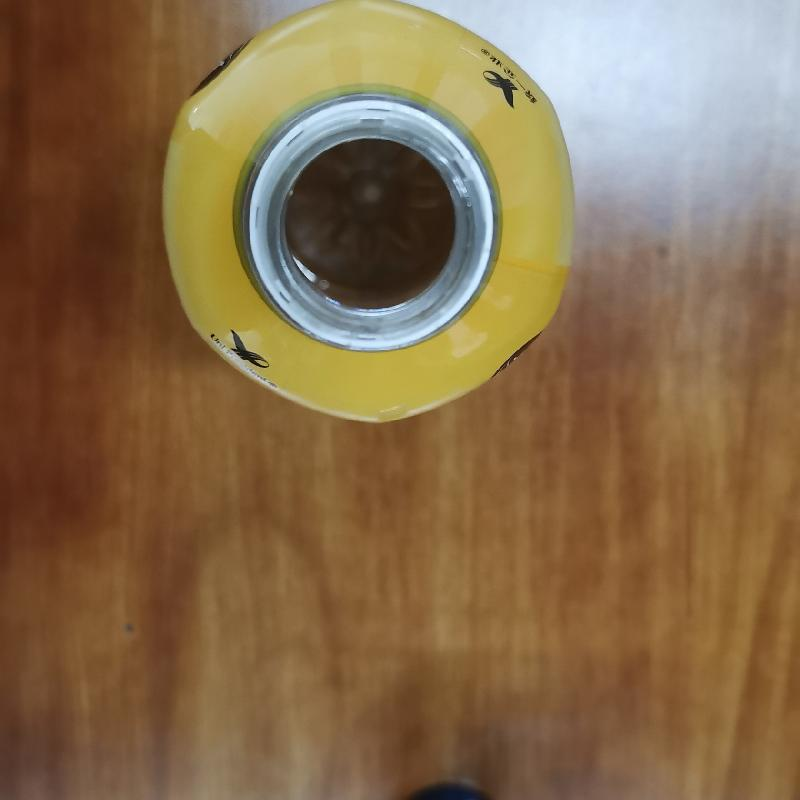bottles: (166, 3, 585, 432)
